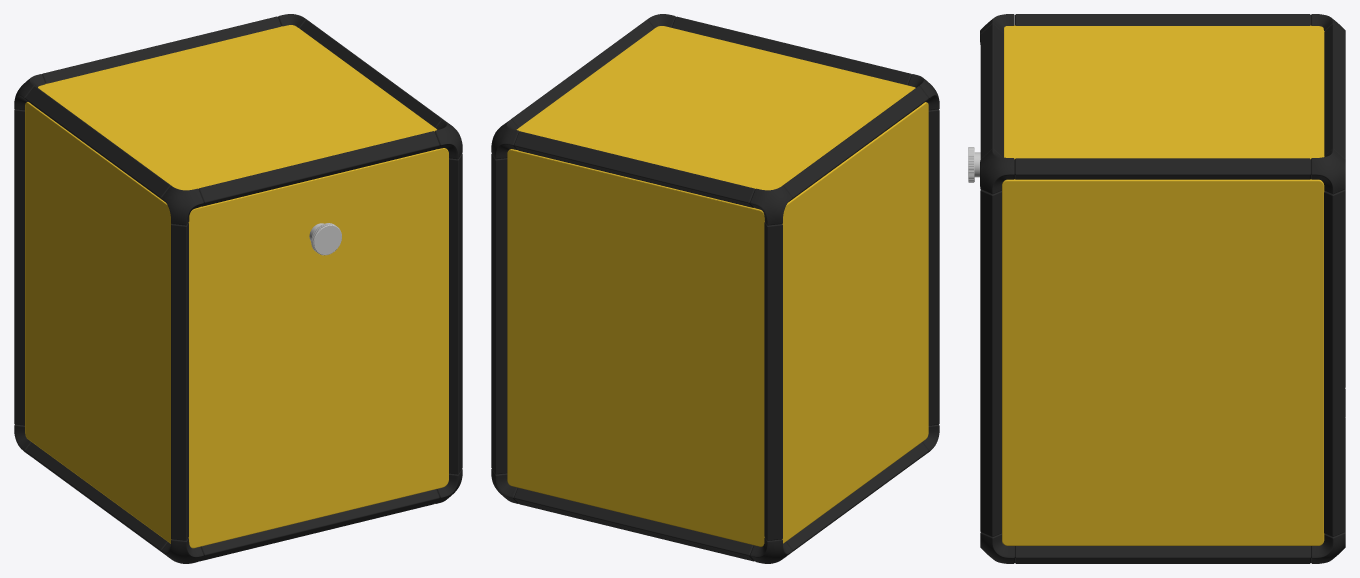
3 renders of one model, left to right at view 1: azimuth 30°, elevation 25°; view 2: azimuth 150°, elevation 25°; view 3: azimuth 270°, elevation 25°, orthographic. The views are drawn at different scales.
Parts seen in each view (by area): view 1: 329x329x420; view 2: 329x329x420; view 3: 329x329x420.
Part boxes in pixels (<box>): 329x329x420: <box>14,14,462,563</box>; 329x329x420: <box>491,14,939,563</box>; 329x329x420: <box>968,14,1345,563</box>.
Bounding box in the file's own units: 0.4067 × 0.4976 × 0.4196.
